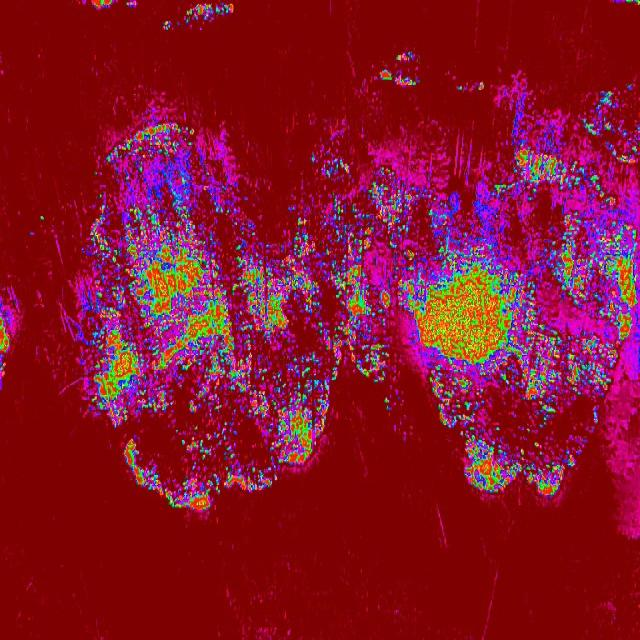fire: (332, 133, 640, 389), (83, 121, 242, 514), (242, 146, 332, 497), (461, 432, 586, 499), (500, 80, 640, 134), (436, 388, 601, 432), (374, 42, 427, 94), (160, 0, 234, 36), (0, 292, 17, 397)
